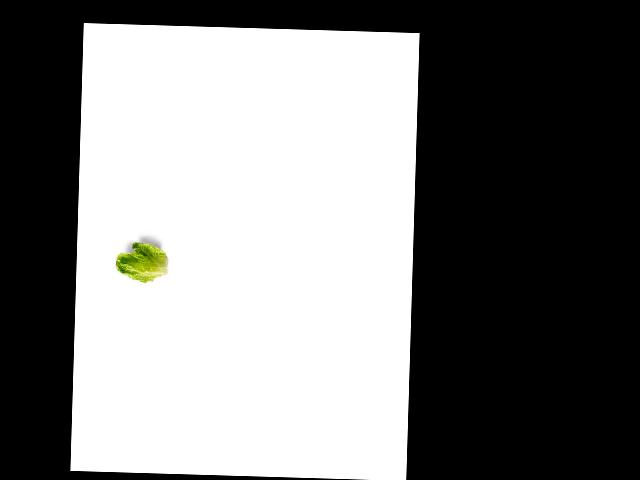lettuce: (112, 240, 174, 285)
